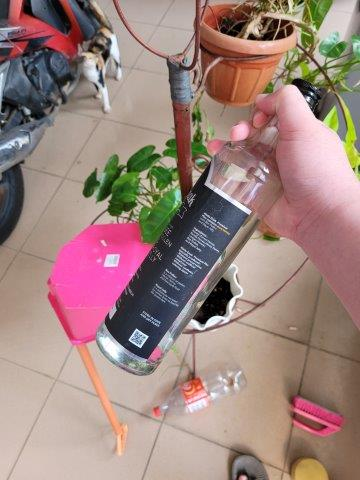botolkaca: (91, 81, 324, 378)
botolplastik: (153, 366, 246, 420)
